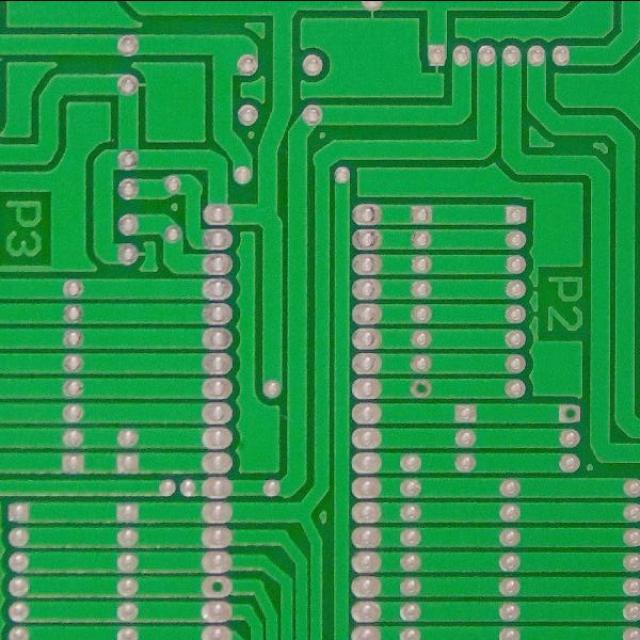missing_hole: (200, 574, 230, 599), (406, 377, 436, 400), (557, 401, 584, 426)
